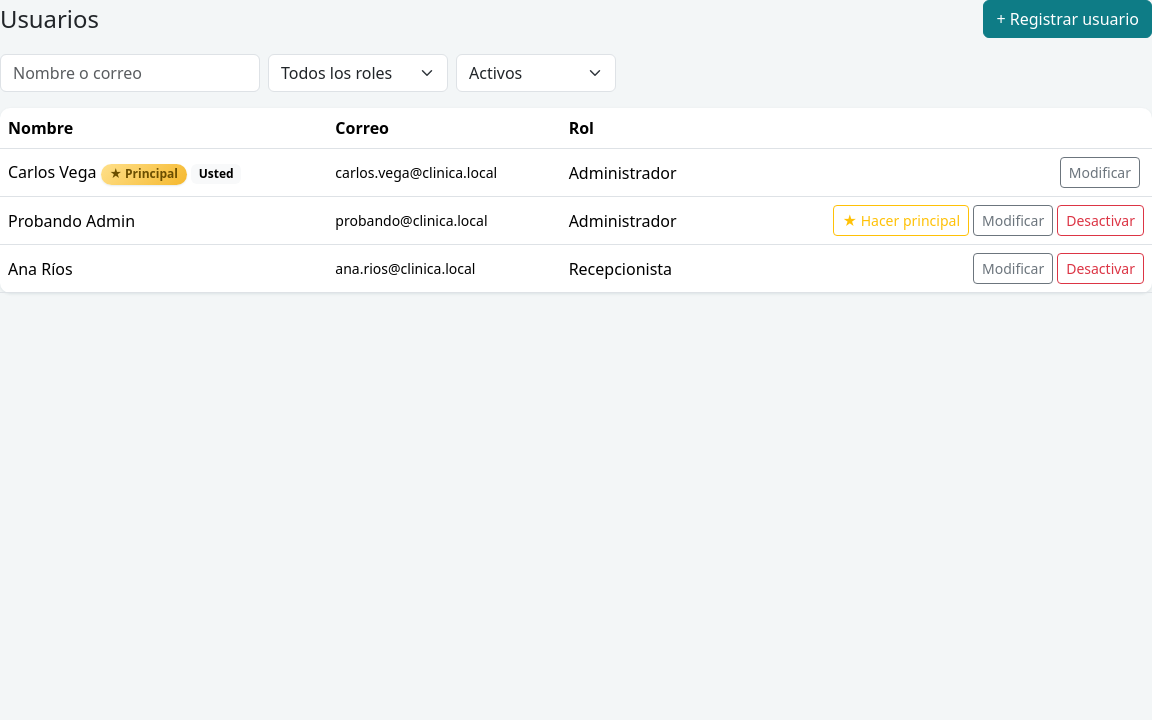
Test: Usuarios: administrador principal › el principal traspasa su papel confirmando con su contraseña
Click the button "★ Hacer principal" at (901, 220), box [833,205,969,236]
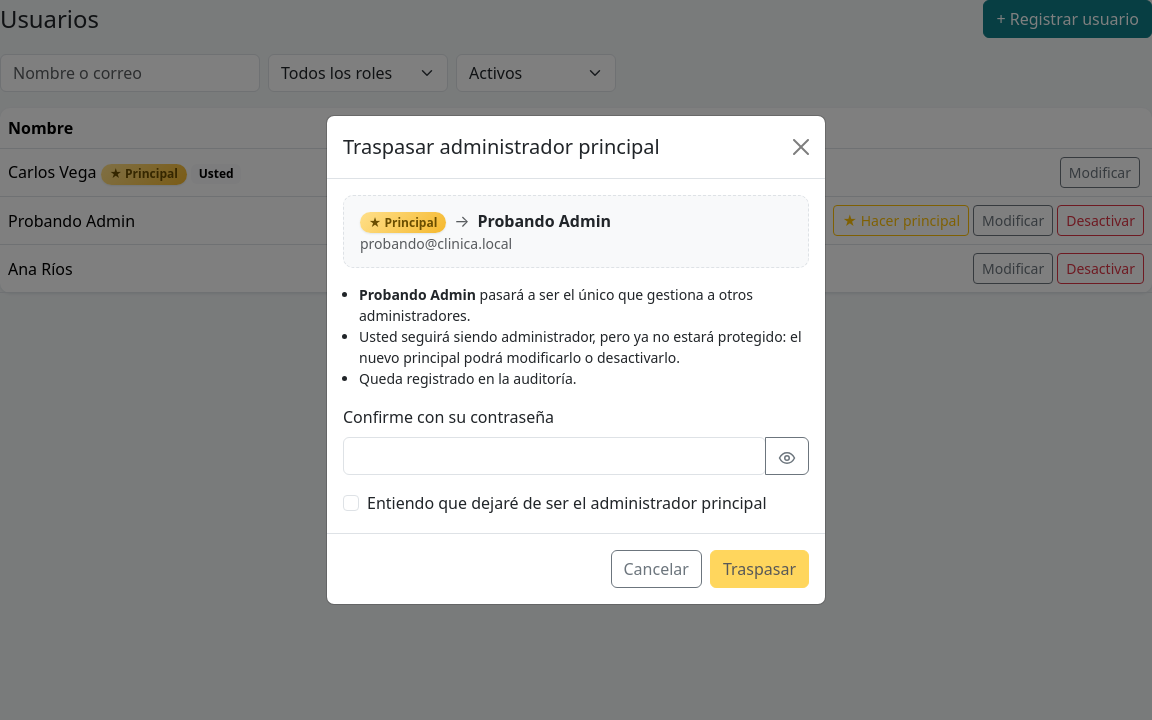
Type "Clinica2026" into the password field labelled "Confirme con su contraseña" at (554, 456), box [343,437,766,475]
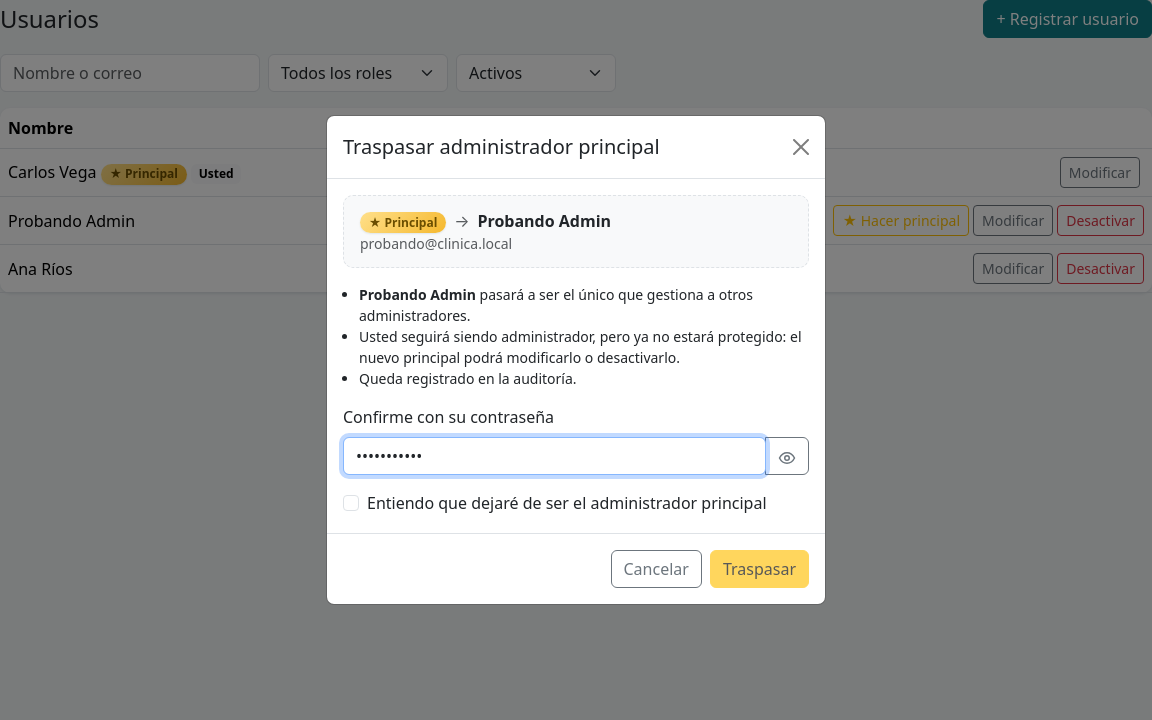
Result: the button "Traspasar" is disabled at [710,550,809,588]
Click the checkbox labelled "Entiendo que dejaré de ser el administrador principal" at (351, 503), box [343,495,359,511]
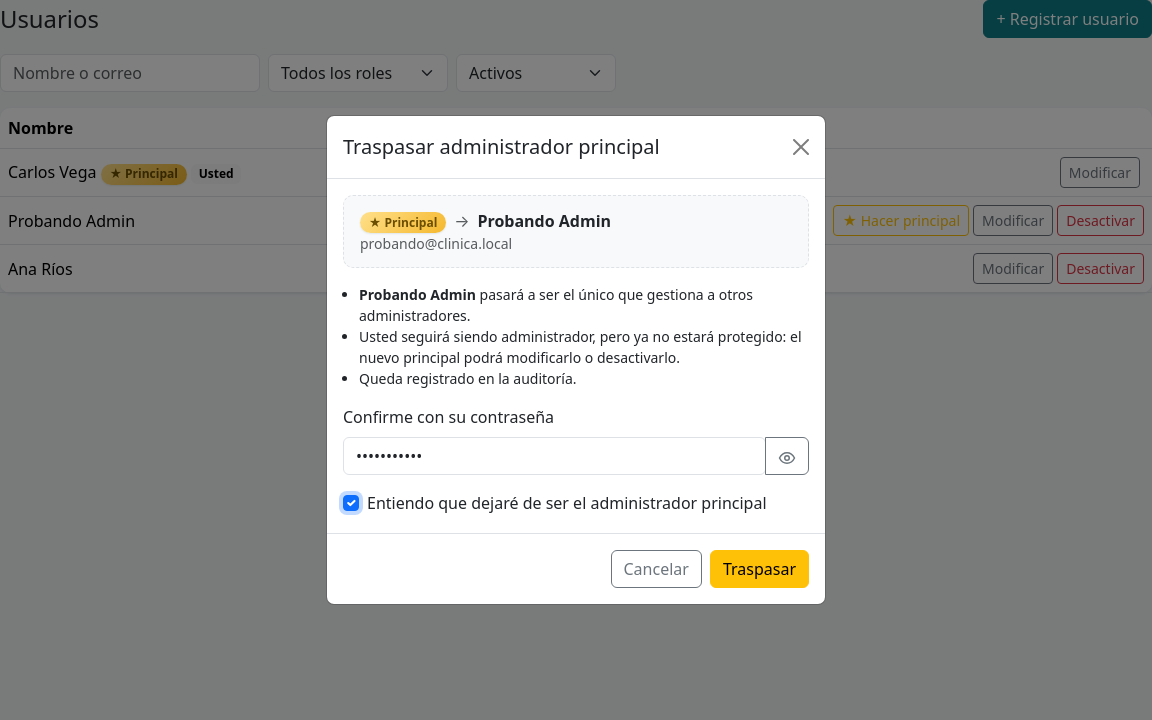
Click the button "Traspasar" at (759, 569), box [710,550,809,588]
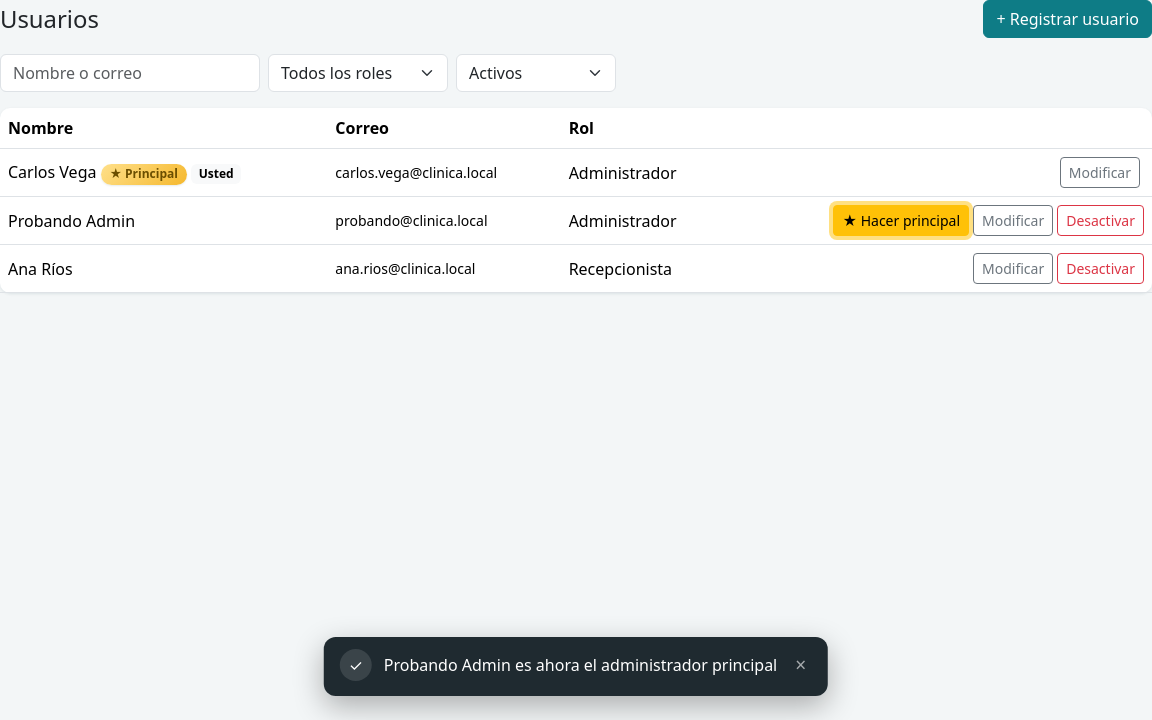
Result: the message shows "Probando Admin es ahora el administrador principal" at [384,654,777,676]
